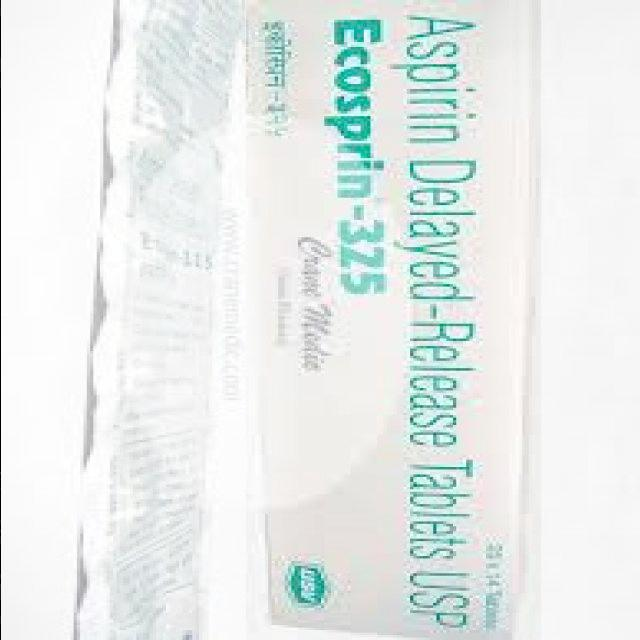authentic: (234, 0, 540, 640), (62, 0, 245, 640)
